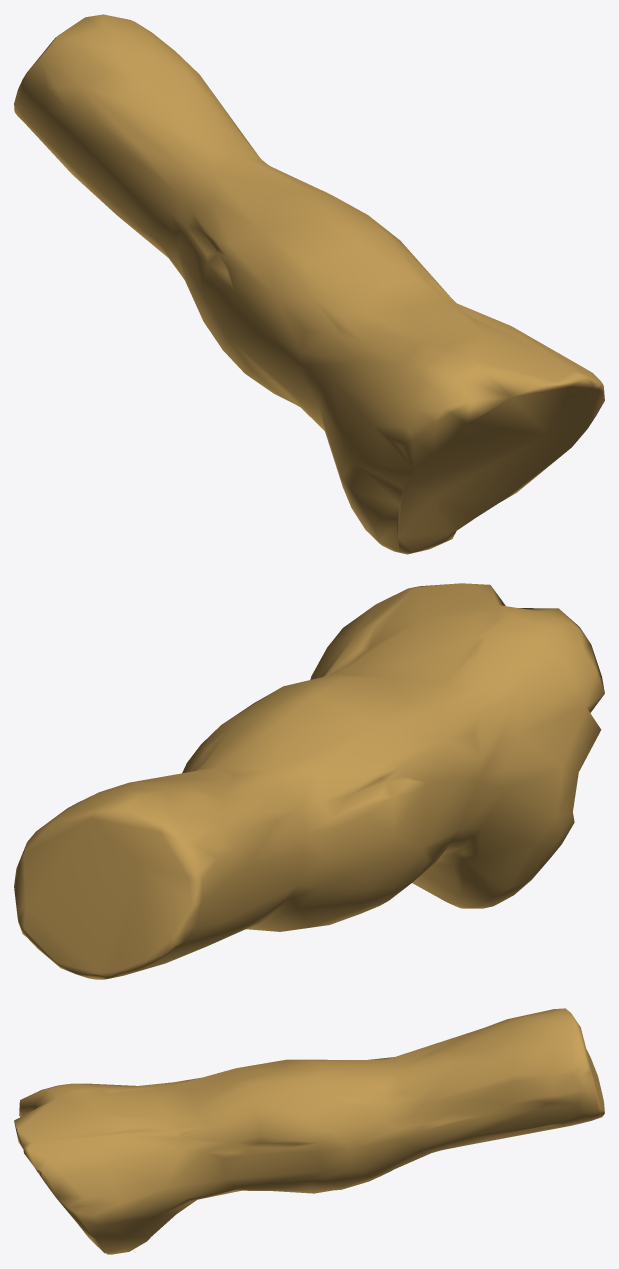
3 views of the same model, one above another, from view 1: azimuth 30°, elevation 25°; view 2: azimuth 150°, elevation 25°; view 3: azimuth 270°, elevation 25° (orthographic). The views are drawn at different scales.
Visible parts, largest first — view 1: 左侧甲状舌骨外侧韧带; view 2: 左侧甲状舌骨外侧韧带; view 3: 左侧甲状舌骨外侧韧带.
Boxes of the visible parts, x1,y1,x2,y2 form: 左侧甲状舌骨外侧韧带: (14,14,604,554); 左侧甲状舌骨外侧韧带: (14,583,604,979); 左侧甲状舌骨外侧韧带: (14,1008,604,1254).
Bounding box in the file's own units: 0.00533 × 0.00665 × 0.0156.
